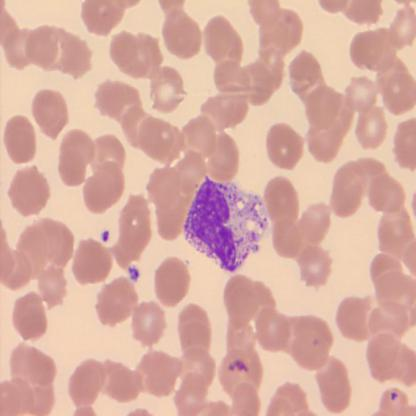Metamyelocyte: (182, 172, 270, 274)
